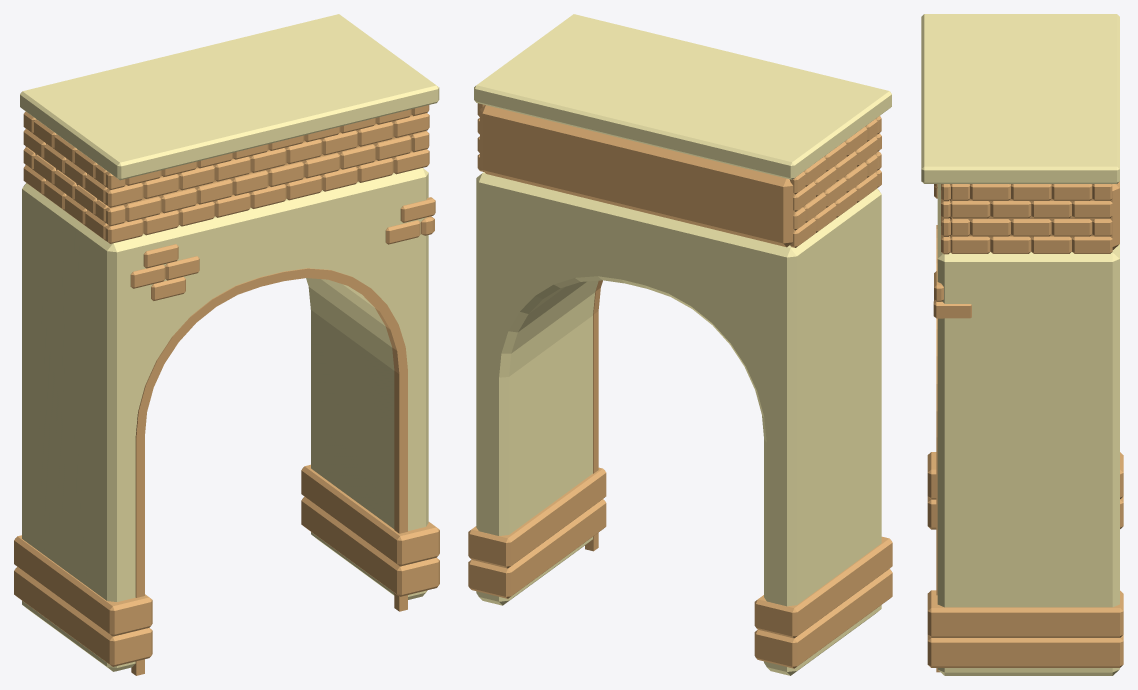
File: 250513 Brdige export_1draft.fbx
3 views of the same model, side by side, from view 1: azimuth 30°, elevation 25°; view 2: azimuth 150°, elevation 25°; view 3: azimuth 270°, elevation 25° (orthographic).
Parts seen in each view (by area): view 1: Cube.009; view 2: Cube.009; view 3: Cube.009.
Boxes of the visible parts, <box> form: Cube.009: <box>14,14,439,675</box>; Cube.009: <box>468,14,892,675</box>; Cube.009: <box>921,14,1123,675</box>.
Bounding box in the file's own units: 209 × 317 × 112.
